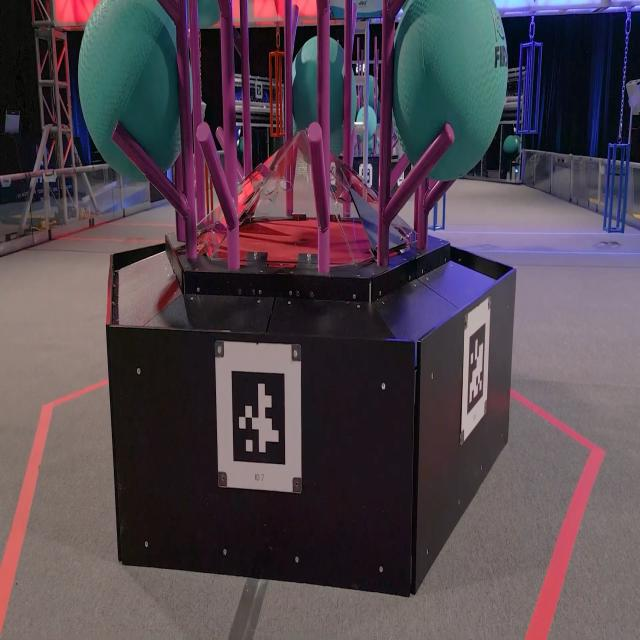Algae: (392, 0, 508, 182), (77, 0, 184, 183), (290, 34, 352, 158), (356, 73, 379, 120), (354, 104, 376, 142)
